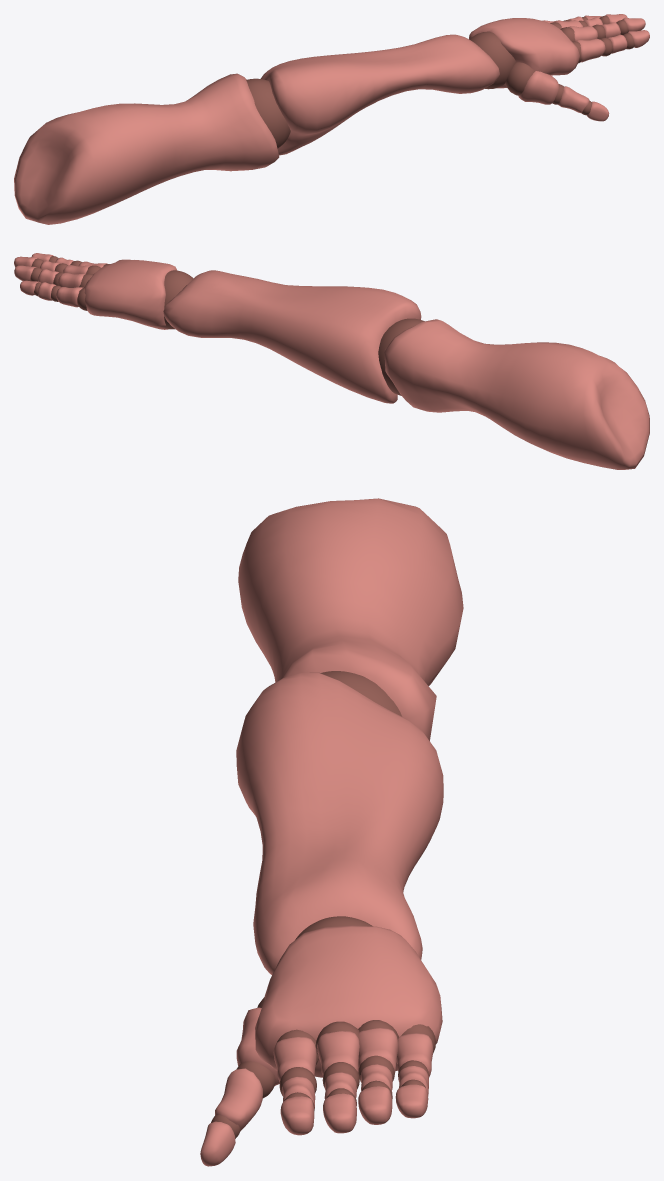
Rendered from xbotlefthand.fbx.
The picture shows the model from 3 angles, top to bottom: view 1: azimuth 30°, elevation 25°; view 2: azimuth 150°, elevation 25°; view 3: azimuth 270°, elevation 25°; orthographic projection. The views are drawn at different scales.
Visible parts, largest first — view 1: Beta_Surface, Beta_Joints; view 2: Beta_Surface, Beta_Joints; view 3: Beta_Surface, Beta_Joints.
Part boxes in pixels (<box>): Beta_Surface: <box>14,14,649,224</box>; Beta_Joints: <box>246,15,634,148</box>; Beta_Surface: <box>14,253,649,469</box>; Beta_Joints: <box>30,256,424,395</box>; Beta_Surface: <box>200,498,463,1166</box>; Beta_Joints: <box>211,671,435,1138</box>.
Bounding box in the file's own units: 74.78 × 11.94 × 13.86.
